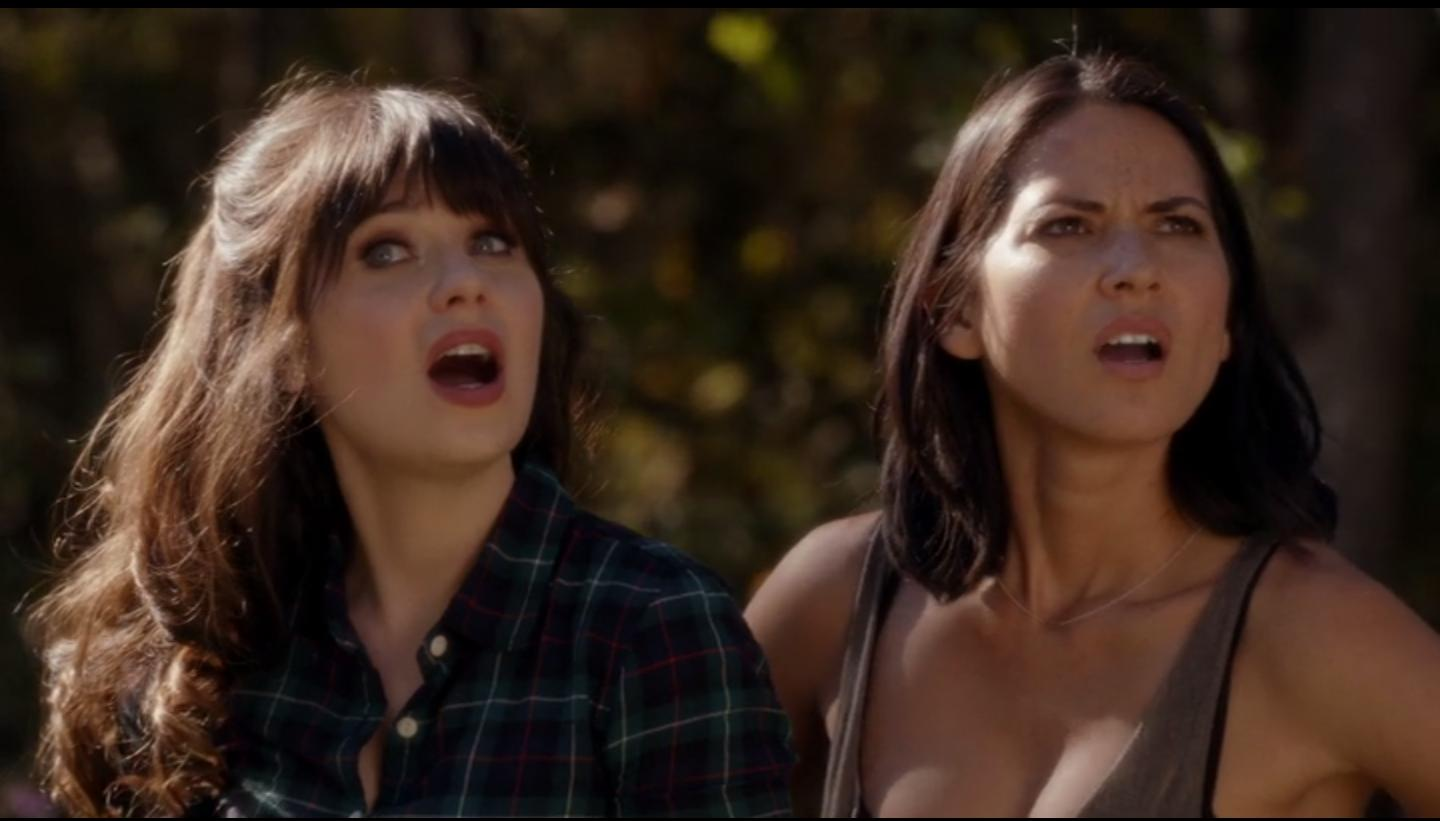person: (677, 48, 1438, 817), (93, 73, 766, 821)
